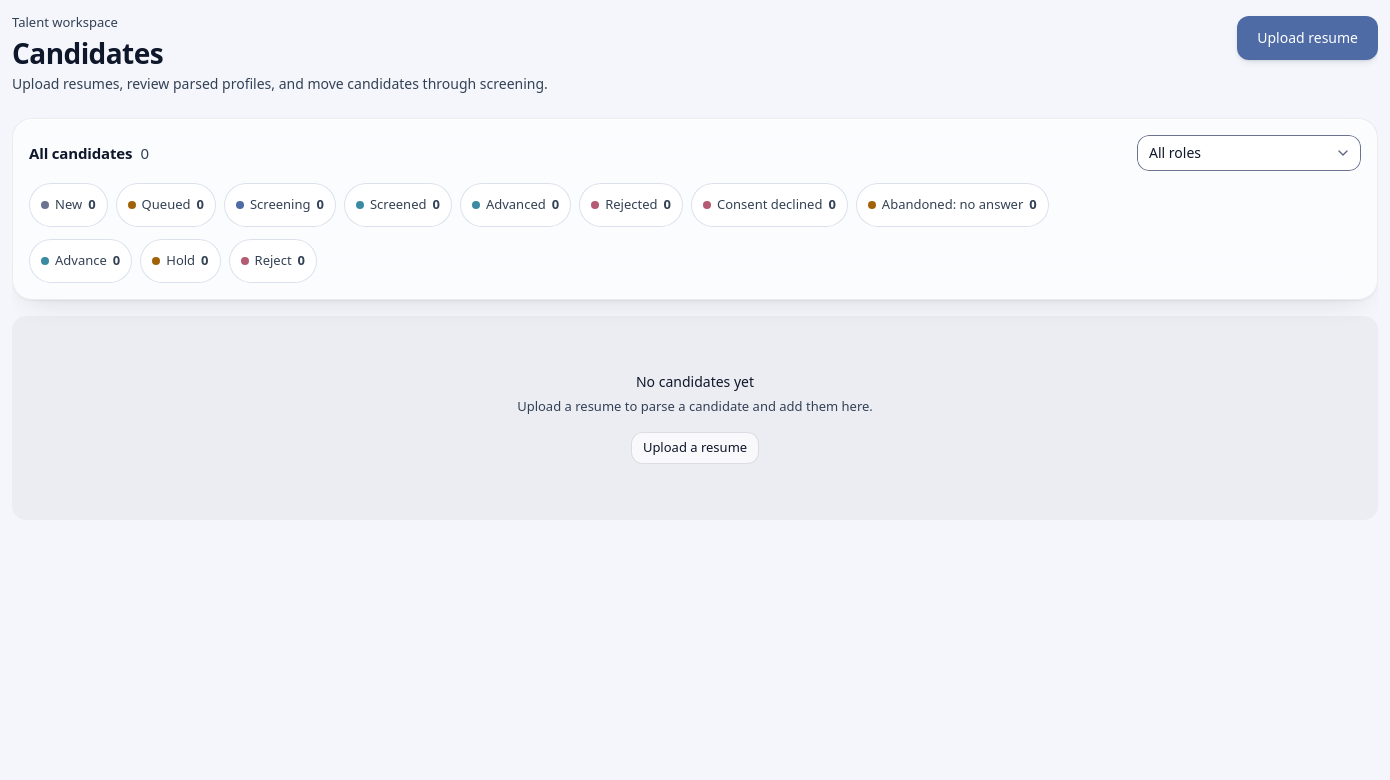
CandidatesPage › upload button is disabled without a file
Click the button "Upload resume" at (1308, 38), box [1237,16,1378,60]
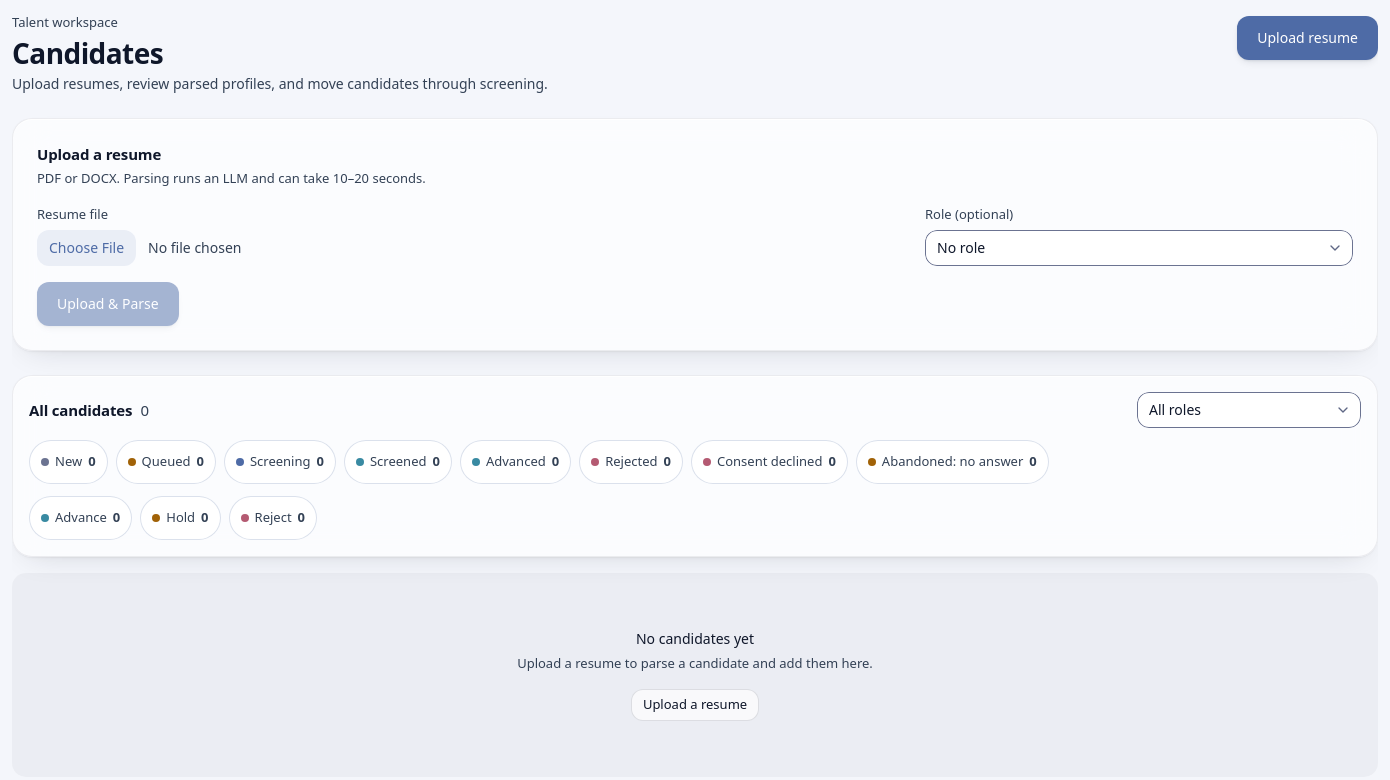
expect the button "Upload & Parse" is disabled: met, box [37,282,179,326]
